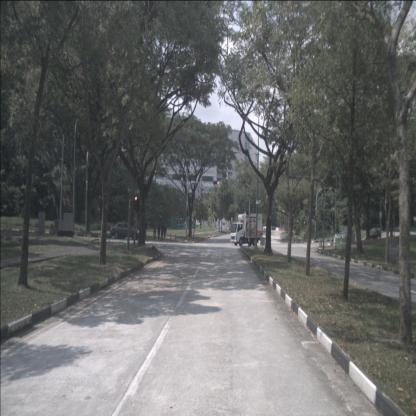human-pedestrian-adult: (152, 222, 156, 241), (163, 223, 167, 242), (160, 223, 164, 242), (158, 224, 160, 241)
vehicle-car: (110, 221, 140, 240), (338, 229, 355, 243), (367, 228, 382, 239)
vehicle-truck: (230, 213, 263, 246)
